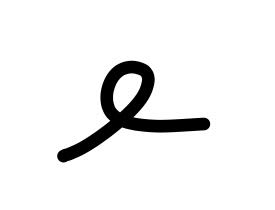o: (89, 50, 227, 138)
